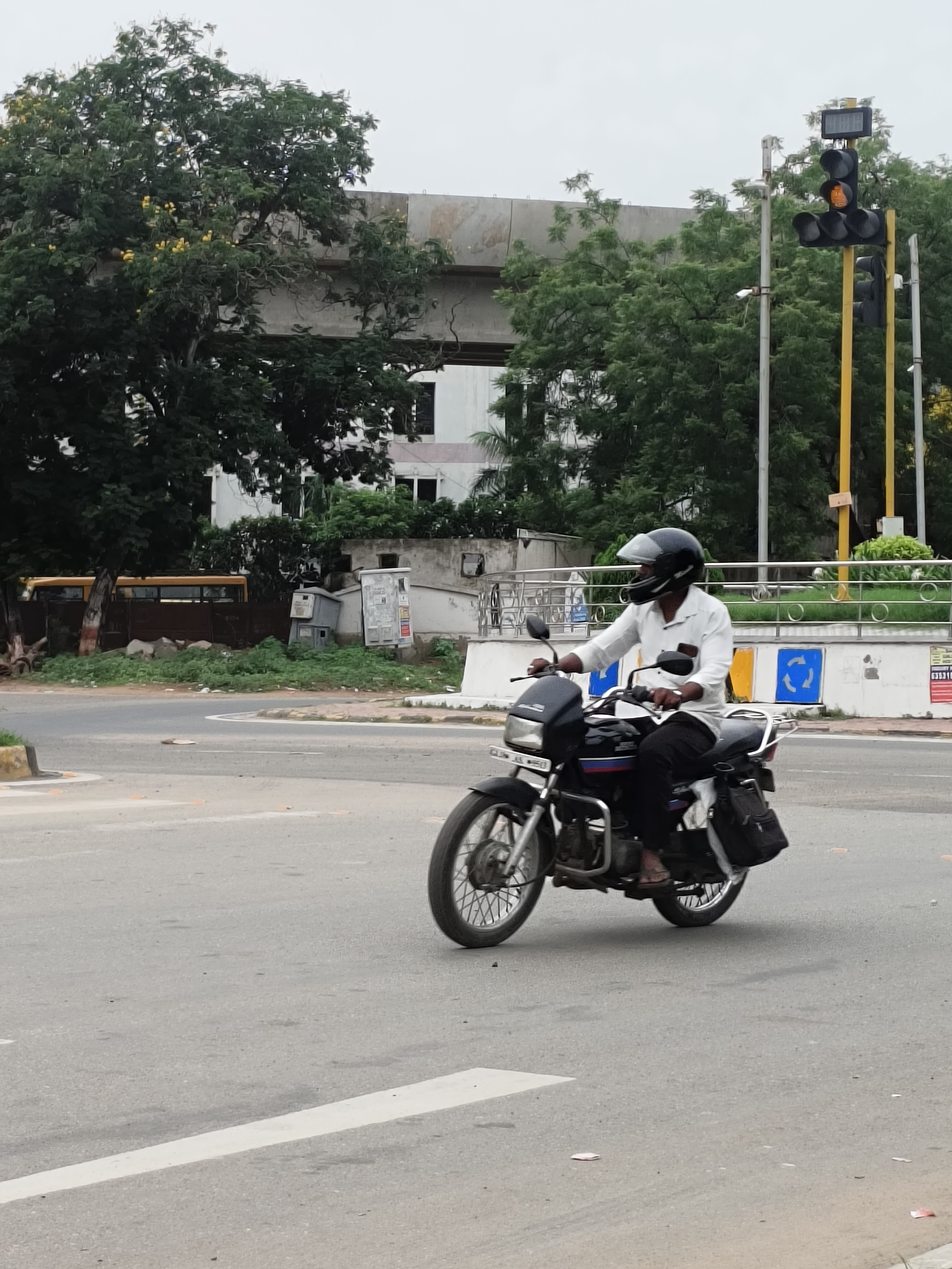BikeWithRider: (414, 516, 801, 958)
Helmet: (606, 519, 716, 611)
